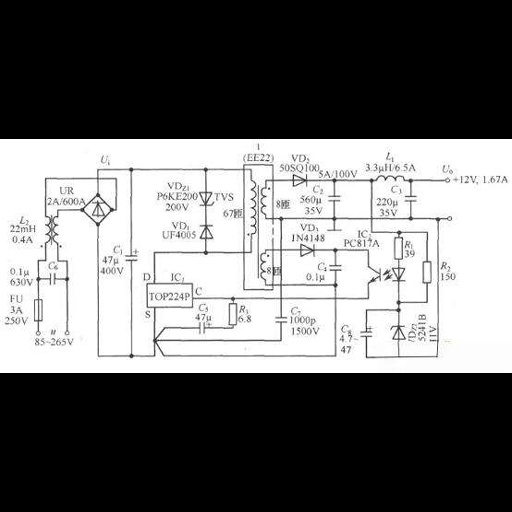capacitor: (272, 312, 289, 327), (404, 192, 420, 206), (327, 261, 344, 273), (327, 192, 343, 204), (47, 271, 59, 287)
firstpolarcapacitor: (358, 324, 376, 340), (195, 321, 214, 336), (124, 248, 141, 264)
firstresistance: (419, 258, 434, 287), (226, 300, 239, 328), (391, 235, 404, 262)
fuse: (31, 295, 45, 324)
inductor: (370, 174, 411, 185)
seconddiode: (196, 222, 217, 241), (296, 242, 320, 258), (289, 173, 311, 188)
secondled: (382, 266, 409, 283)
transformer: (246, 169, 270, 287), (39, 209, 66, 251)
